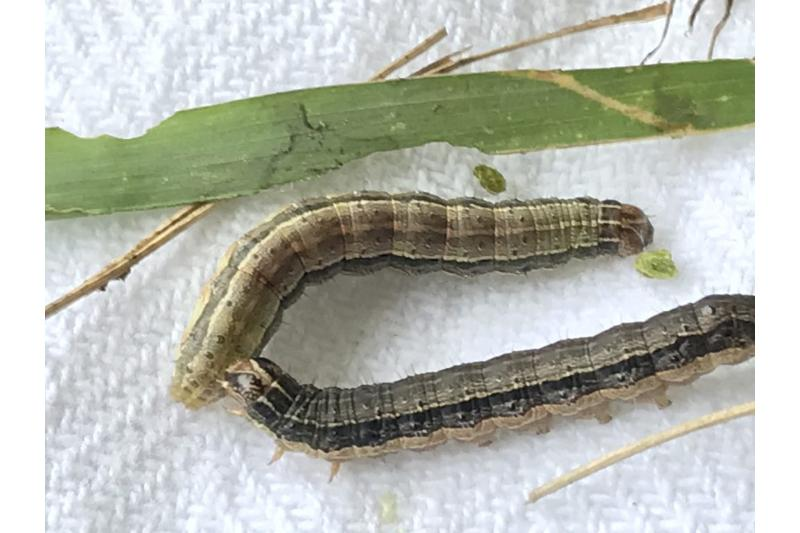fall-armyworm: (170, 193, 657, 413), (223, 295, 757, 487)
